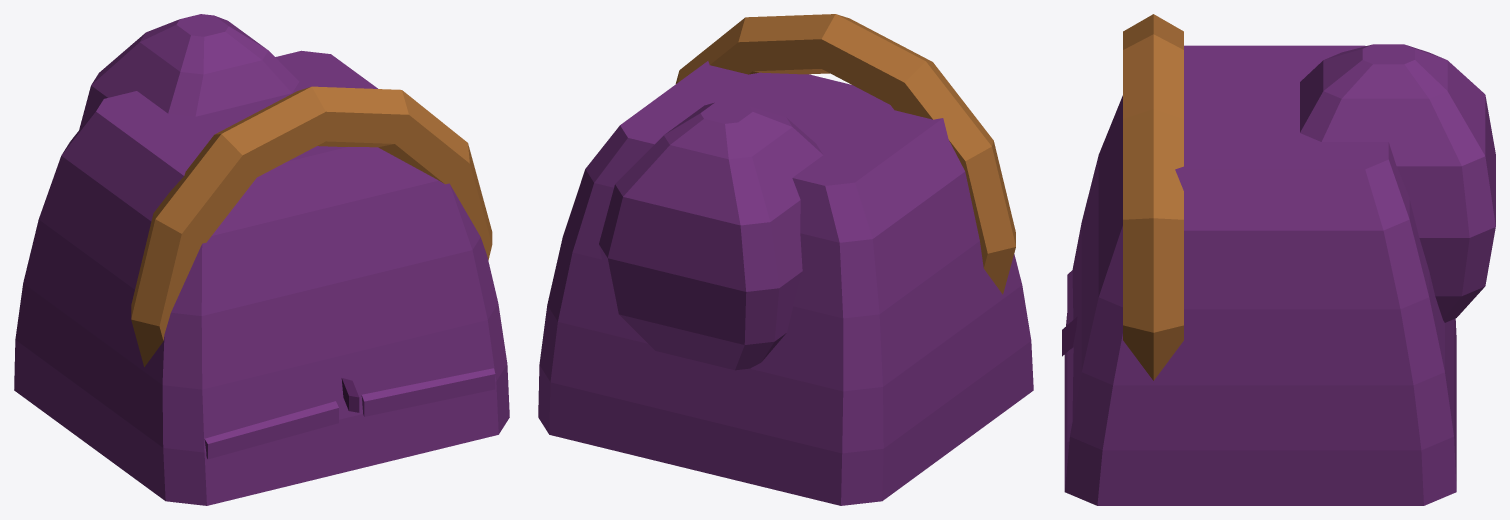
The model's file is hair_girl_halo_updo_01.glb.
3 views of the same model, side by side, from view 1: azimuth 30°, elevation 25°; view 2: azimuth 150°, elevation 25°; view 3: azimuth 270°, elevation 25° (orthographic). The views are drawn at different scales.
Visible parts, largest first — view 1: HaloUpdo_Cap, HaloUpdo_Faceted_Halo, HaloUpdo_Geometric_Bun, HaloUpdo_CenterPart_L, HaloUpdo_CenterPart_R; view 2: HaloUpdo_Cap, HaloUpdo_Geometric_Bun, HaloUpdo_Faceted_Halo; view 3: HaloUpdo_Cap, HaloUpdo_Geometric_Bun, HaloUpdo_Faceted_Halo, HaloUpdo_CenterPart_R.
Boxes of the visible parts, bbox=[...] form: HaloUpdo_Cap: bbox=[14, 50, 509, 505]; HaloUpdo_Faceted_Halo: bbox=[131, 86, 492, 366]; HaloUpdo_Geometric_Bun: bbox=[79, 14, 299, 129]; HaloUpdo_CenterPart_L: bbox=[204, 401, 338, 459]; HaloUpdo_CenterPart_R: bbox=[361, 368, 495, 416]; HaloUpdo_Cap: bbox=[538, 61, 1033, 505]; HaloUpdo_Geometric_Bun: bbox=[599, 101, 822, 370]; HaloUpdo_Faceted_Halo: bbox=[675, 14, 1015, 294]; HaloUpdo_Cap: bbox=[1064, 45, 1456, 505]; HaloUpdo_Geometric_Bun: bbox=[1300, 44, 1495, 322]; HaloUpdo_Faceted_Halo: bbox=[1123, 14, 1183, 380]; HaloUpdo_CenterPart_R: bbox=[1067, 347, 1073, 442].
Bounding box in the file's own units: 0.344 × 0.344 × 0.332.
